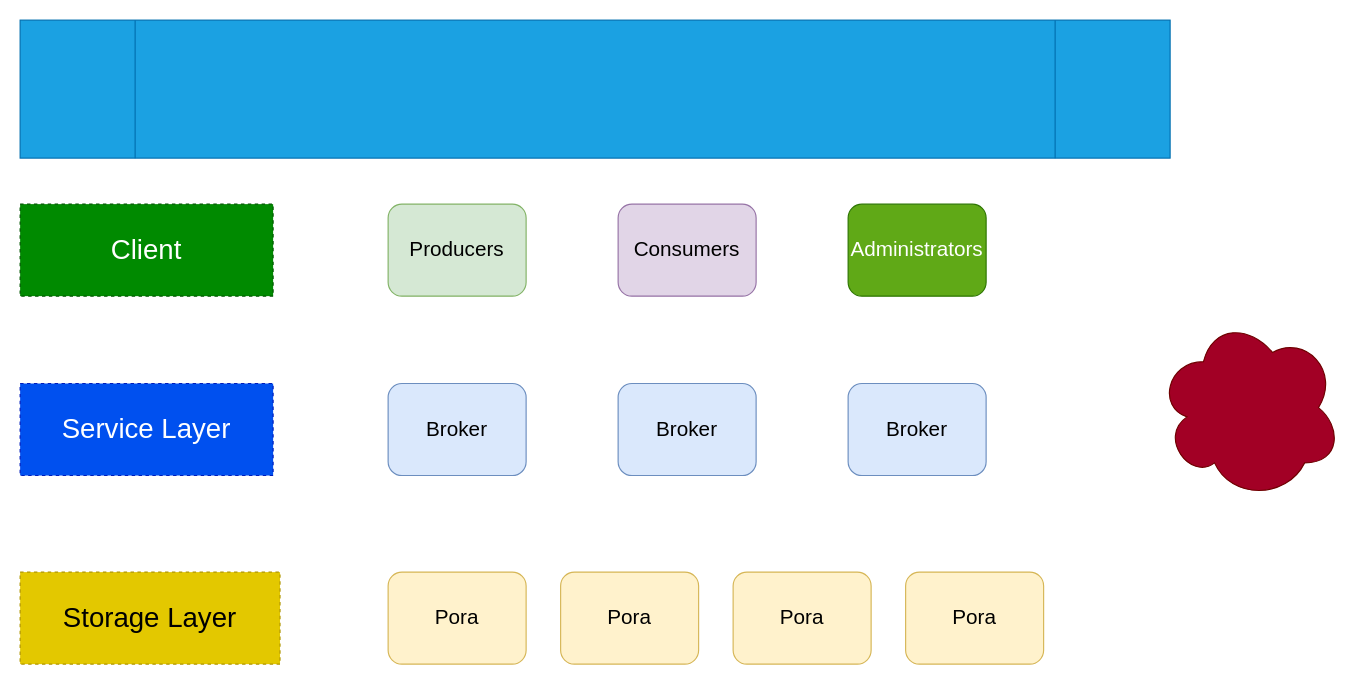
Image size: 1362x684. Some labels were removed from this diagram. Each missing label, with the centre of its shape:
"Coordination (etcd)" goes at pixel 1248 407.
"PigeonMQ" goes at pixel 594 88.
